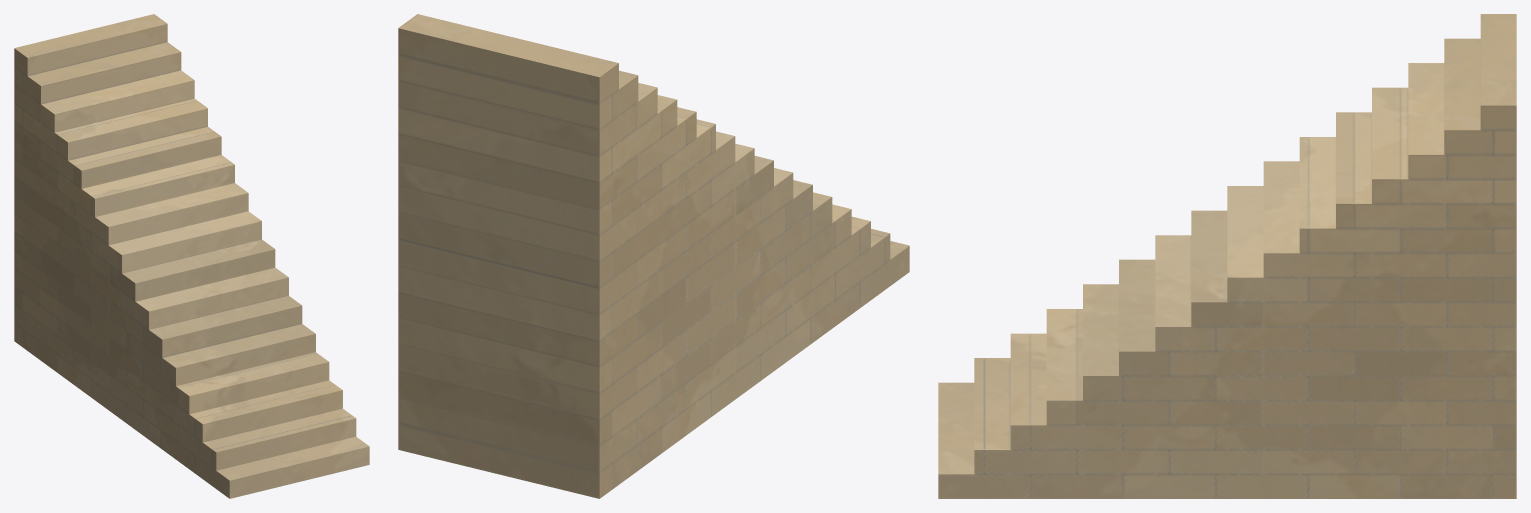
The picture shows the model from 3 angles, left to right: view 1: azimuth 30°, elevation 25°; view 2: azimuth 150°, elevation 25°; view 3: azimuth 270°, elevation 25°; orthographic projection. The views are drawn at different scales.
Parts seen in each view (by area): view 1: L21_Baked; view 2: L21_Baked; view 3: L21_Baked.
Part boxes in pixels (<box>): L21_Baked: <box>14,14,369,498</box>; L21_Baked: <box>398,14,909,498</box>; L21_Baked: <box>938,14,1516,498</box>.
Size of the model in its own units: 150 by 300 by 400.
